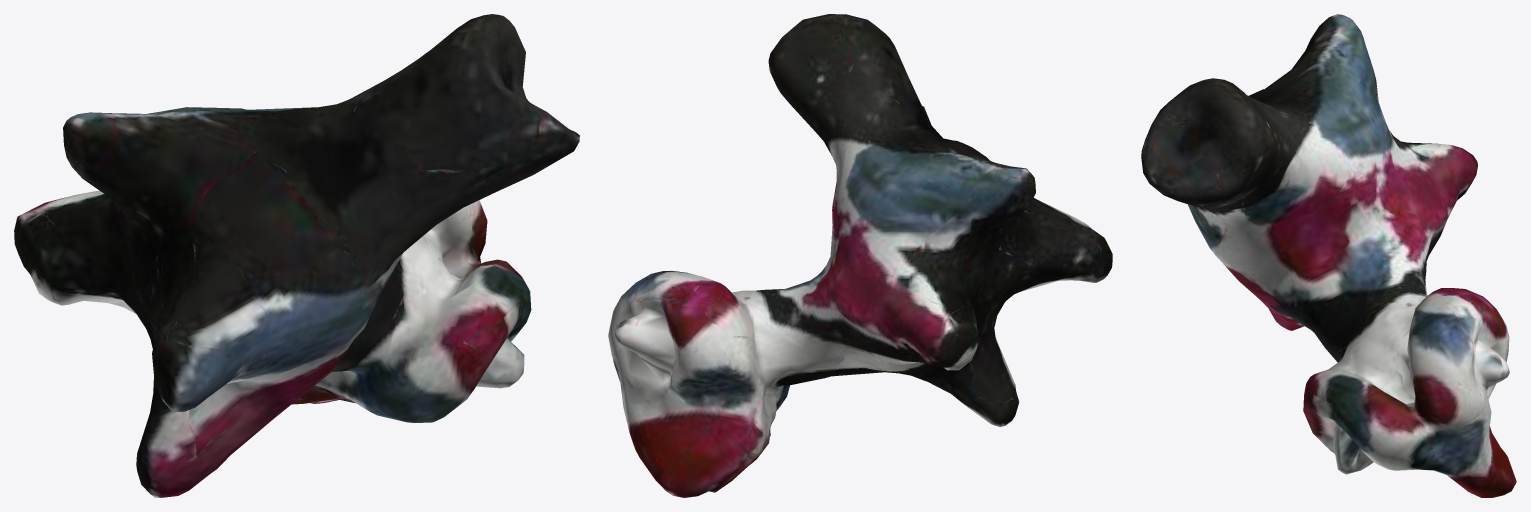
The model's file is hall.glb.
3 views of the same model, side by side, from view 1: azimuth 30°, elevation 25°; view 2: azimuth 150°, elevation 25°; view 3: azimuth 270°, elevation 25° (orthographic). The views are drawn at different scales.
Bounding box in the file's own units: 0.4289 × 0.4318 × 0.3659.
1 material, 1 textured.
